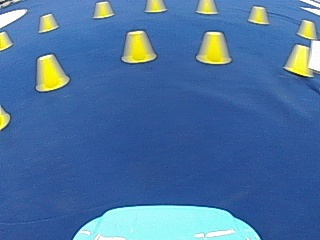cone: (35, 52, 69, 91), (196, 30, 231, 65), (121, 29, 156, 64), (284, 43, 312, 76), (306, 39, 319, 73), (296, 19, 316, 39), (248, 5, 268, 24), (38, 13, 58, 32), (93, 1, 113, 19), (196, 0, 216, 14), (0, 30, 13, 49), (145, 0, 165, 12)
